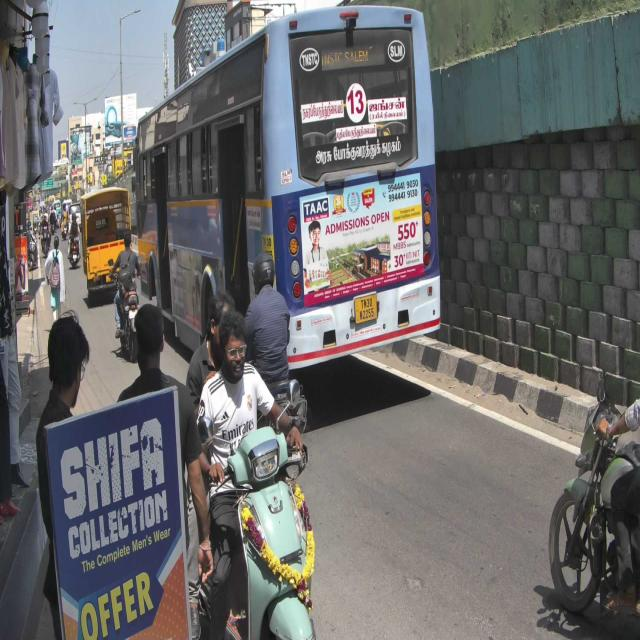single_rider: (186, 289, 317, 640)
